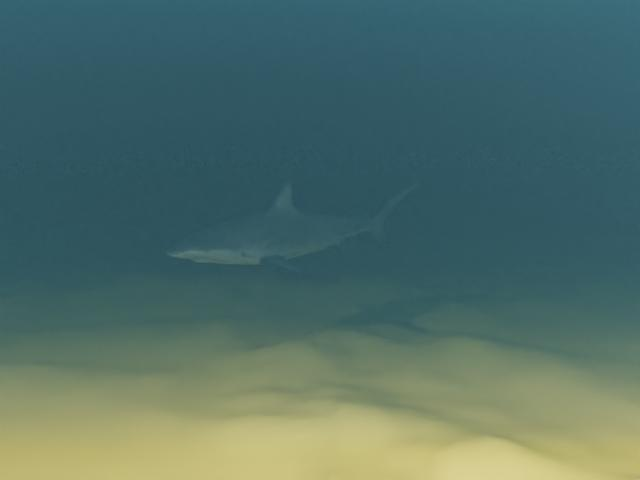Carribean Shark.001: (166, 177, 426, 278)
